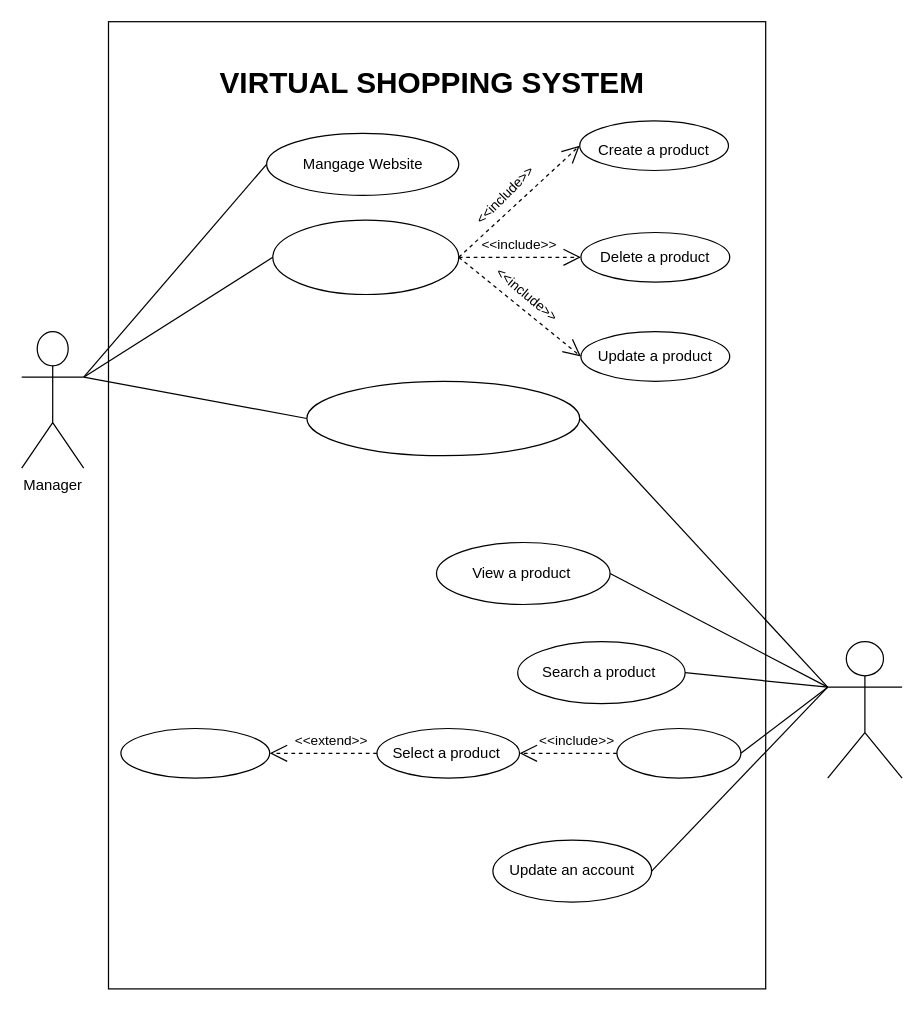
The diagram is 924 pixels wide and 1011 high, and some of its shapes have lost their labels. Here are the shapes that lost their labels. From the top down, the centre of each, then its label:
At point (365, 256): "Manage customer's accounts".
At point (443, 418): "Account authentication".
At point (864, 709): "Customer".
At point (195, 752): "Update a cart".
At point (678, 752): "Check out a cart".
